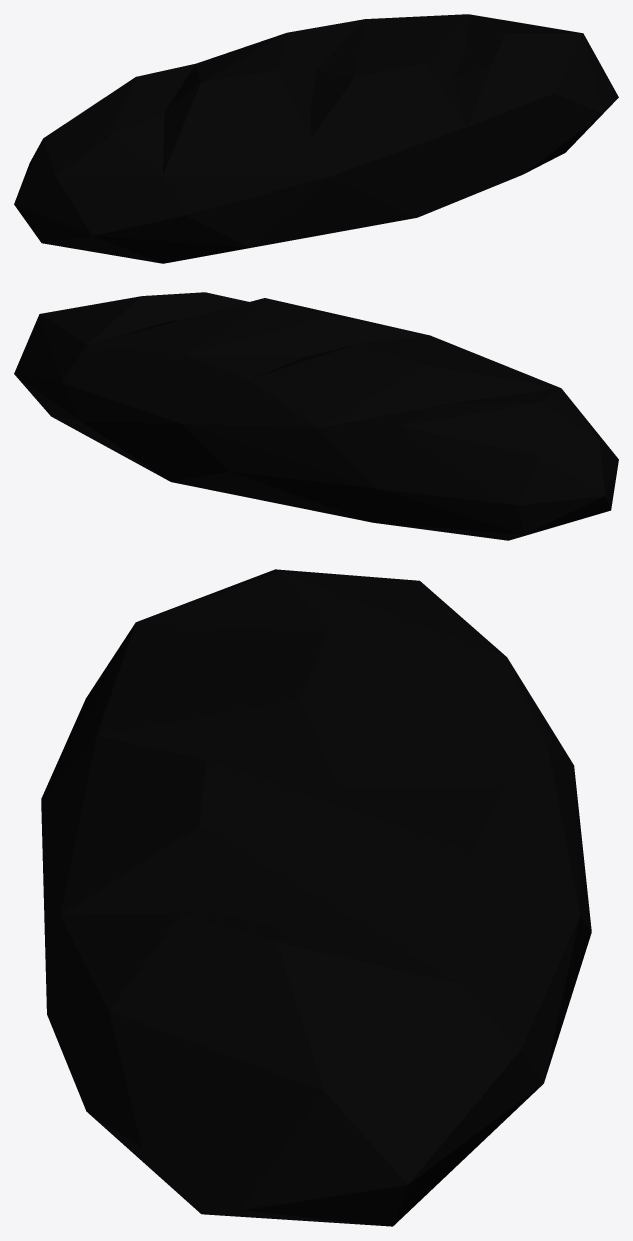
Rendered from bread.glb.
The picture shows the model from 3 angles, top to bottom: view 1: azimuth 30°, elevation 25°; view 2: azimuth 150°, elevation 25°; view 3: azimuth 270°, elevation 25°; orthographic projection. The views are drawn at different scales.
Visible parts, largest first — view 1: Bread; view 2: Bread; view 3: Bread.
Part boxes in pixels (box(x1,y1,x2,y2)): Bread: box(14, 14, 618, 263); Bread: box(14, 292, 618, 540); Bread: box(41, 569, 591, 1226).
Bounding box in the file's own units: 4.31 × 0.9191 × 1.78.
Materials: 1 (1 with a texture image).
